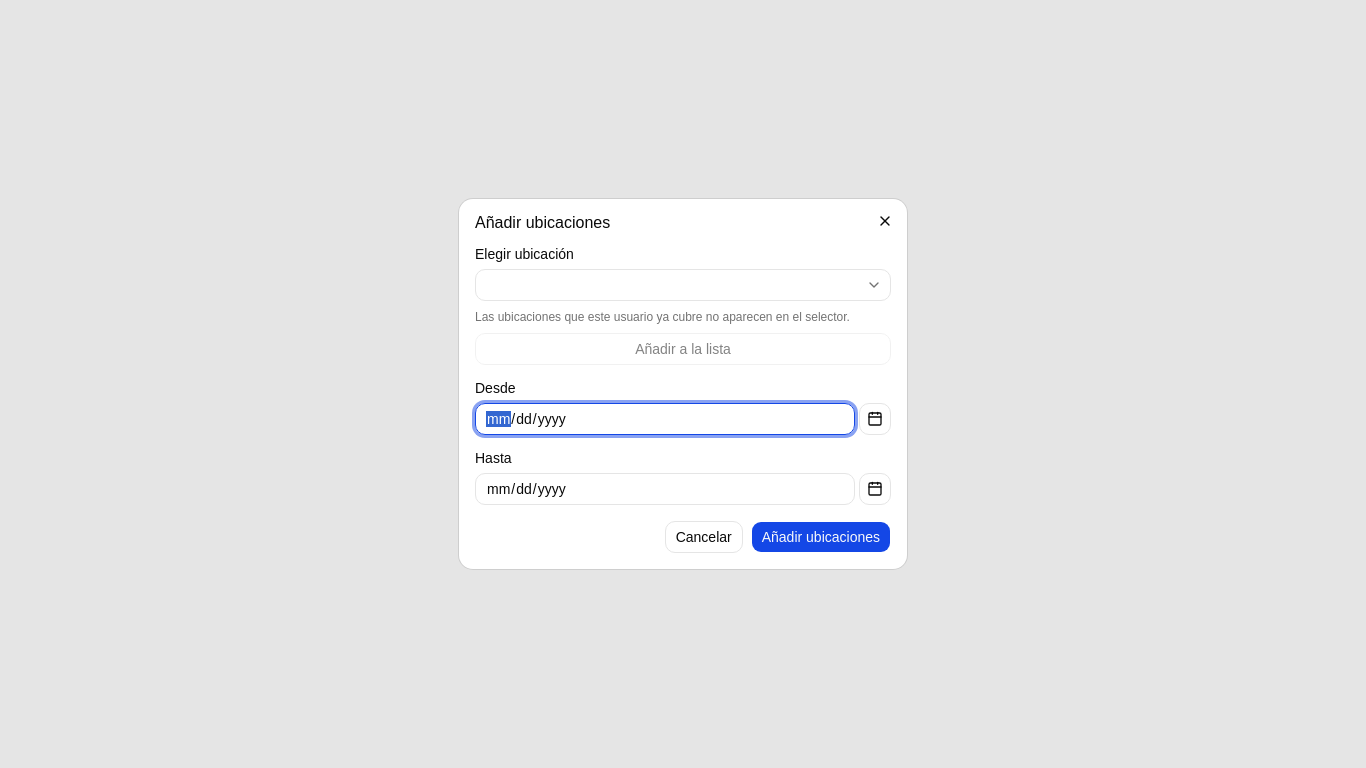
Scenario: AddGeoAssignmentsDialog — ESAVI-USERGEO-007 › una ubicación con asignación CERRADA sí se ofrece: el 007 la reactiva
Step 1. Click the dropdown named "Provincia" → coordinates (874, 285), box [475, 269, 891, 301]
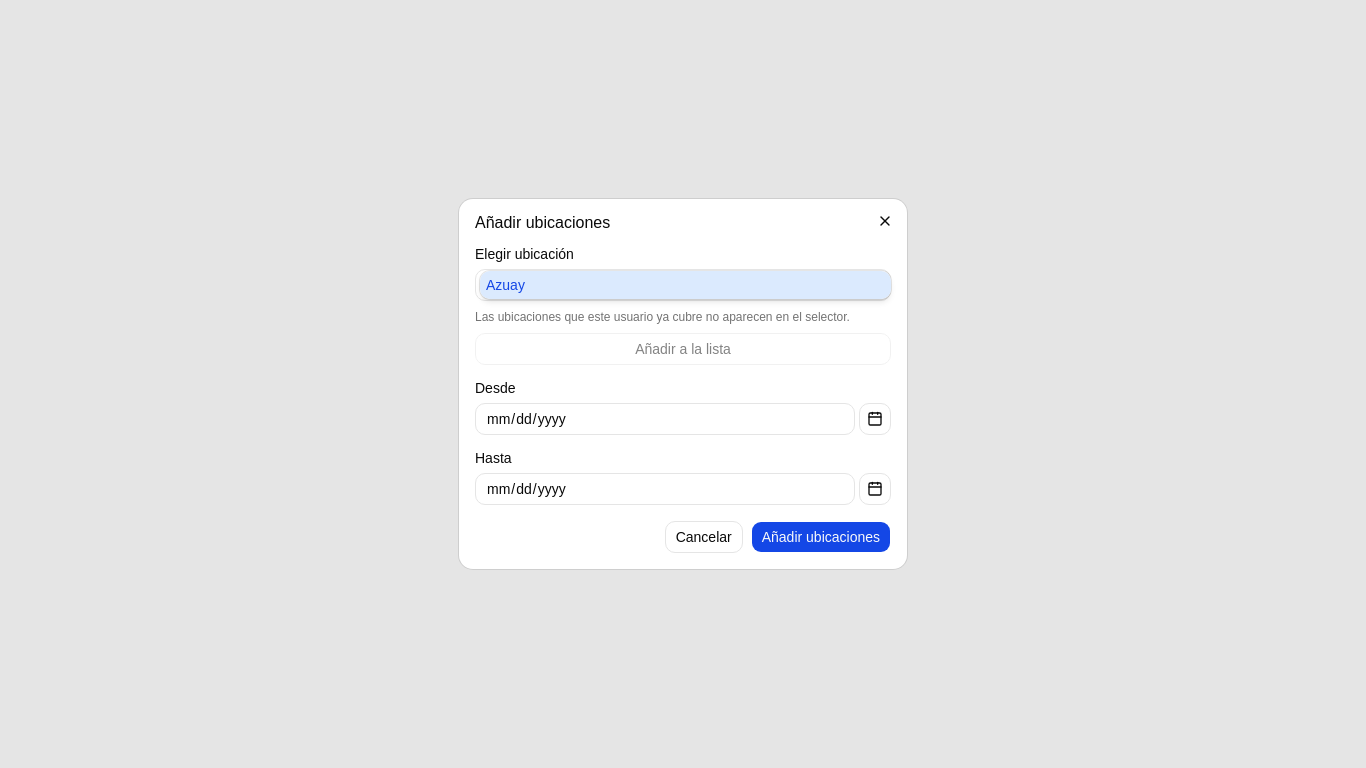
Result: the option "Azuay" is shown at [480, 271, 891, 299]
